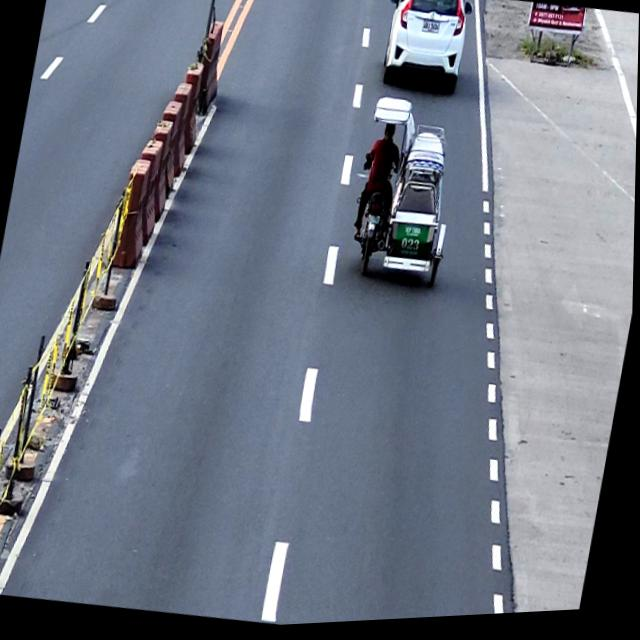Car: (375, 0, 475, 101)
License-Plate: (421, 23, 441, 39), (368, 216, 382, 230)
Tricycle: (345, 95, 471, 292)
